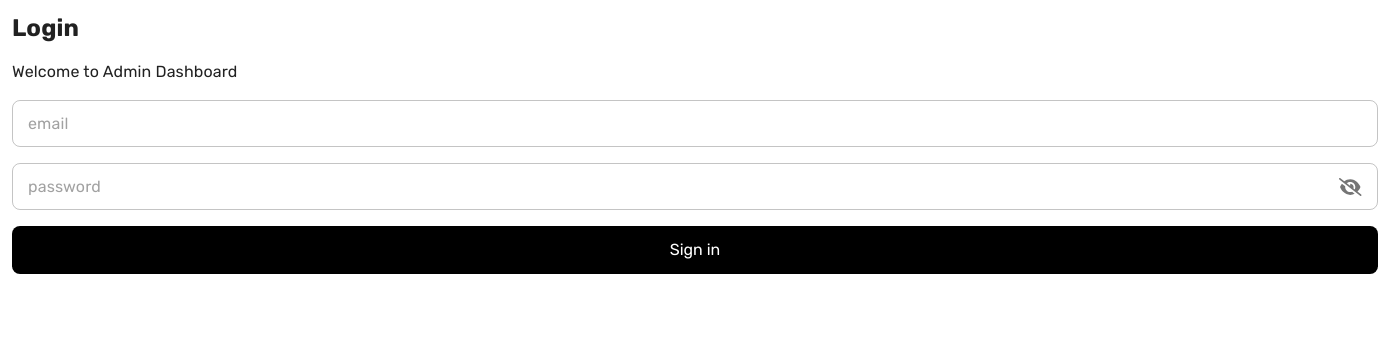
LoginFormSection › should display `*required field` when submit without required field
Click the button with test id "signin-btn": x=695, y=250 [12, 226, 1378, 274]
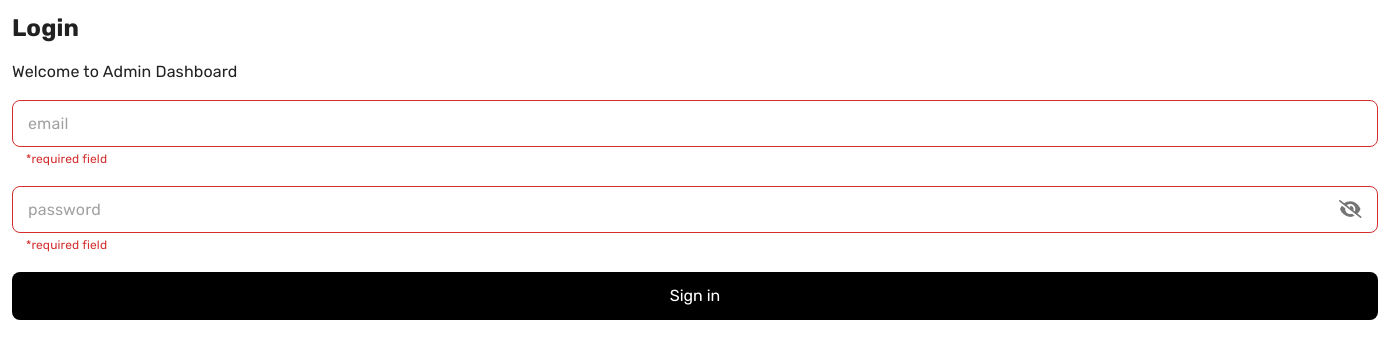
Expected: the text "*required field" is shown 2 times, [26, 152, 107, 166]; [26, 238, 107, 252]
